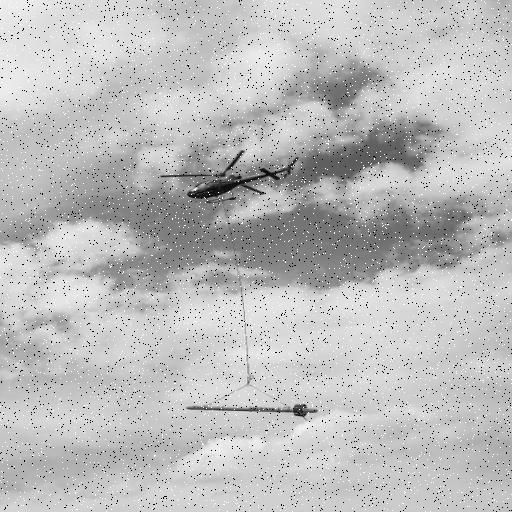helicopter: (159, 153, 324, 206)
